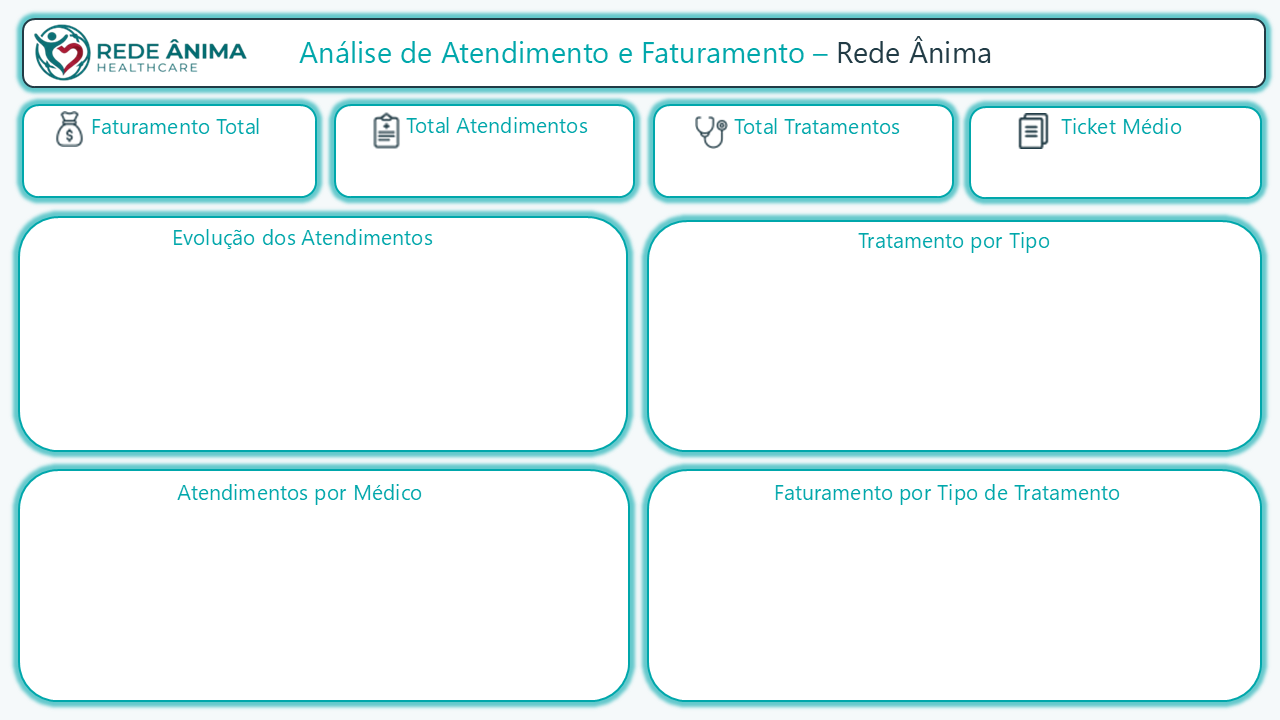

The page's visual inventory and layout, read from the dashboard file:
{"tool":"powerbi","page":{"name":"Análise de Atendimento e Faturamento","canvas":[1280,720],"ordinal":0},"visuals":[{"type":"card","fields":{"Values":["_Medidas.Faturamento Total"]},"box":[28,133.3,277.3,58.7],"z":0},{"type":"areaChart","fields":{"Category":["dCalendario.Mês Nome Curto"],"Y":["_Medidas.Qtd. Atendimentos"]},"box":[28.1,242.1,578.9,193],"z":1000},{"type":"clusteredColumnChart","fields":{"Category":["fTratamento.Tipo"],"Y":["_Medidas.Qtd. Tratamentos"]},"box":[624.2,250,630.3,184.8],"z":2000},{"type":"clusteredBarChart","fields":{"Y":["_Medidas.Faturamento Total"],"Category":["fTratamento.Tipo"]},"box":[656,489.3,568,197.3],"z":3000},{"type":"columnChart","fields":{"Category":["dMedicos.Nome Completo"],"Y":["_Medidas.Qtd. Atendimentos"]},"box":[28,489.3,590.7,197.3],"z":4000},{"type":"card","fields":{"Values":["_Medidas.Qtd. Atendimentos"]},"box":[341.3,132.5,277.9,59],"z":5000},{"type":"card","fields":{"Values":["_Medidas.Qtd. Tratamentos"]},"box":[669.3,132,280,58.7],"z":6000},{"type":"card","fields":{"Values":["_Medidas.Ticket Médio por Tratamento"]},"box":[976,133.3,278.7,58.7],"z":7000},{"type":"slicer","title":"Filtrar por Unidade","fields":{"Values":["dMedicos.Unidade"]},"box":[1005.6,37,248.1,37],"z":8000},{"type":"textbox","box":[1005.3,17.5,136.8,38.6],"z":9000}]}

Visuals, with their boxes in screenshot pixels (x1, y1, x2, y2), scaled from the page's 1280x720 canvas onto the 1280x720 screenshot:
card - _Medidas.Faturamento Total: pyautogui.locateOnScreen(28, 133, 305, 192)
areaChart - dCalendario.Mês Nome Curto x _Medidas.Qtd. Atendimentos: pyautogui.locateOnScreen(28, 242, 607, 435)
clusteredColumnChart - fTratamento.Tipo x _Medidas.Qtd. Tratamentos: pyautogui.locateOnScreen(624, 250, 1254, 435)
clusteredBarChart - _Medidas.Faturamento Total x fTratamento.Tipo: pyautogui.locateOnScreen(656, 489, 1224, 687)
columnChart - dMedicos.Nome Completo x _Medidas.Qtd. Atendimentos: pyautogui.locateOnScreen(28, 489, 619, 687)
card - _Medidas.Qtd. Atendimentos: pyautogui.locateOnScreen(341, 132, 619, 192)
card - _Medidas.Qtd. Tratamentos: pyautogui.locateOnScreen(669, 132, 949, 191)
card - _Medidas.Ticket Médio por Tratamento: pyautogui.locateOnScreen(976, 133, 1255, 192)
"Filtrar por Unidade" slicer: pyautogui.locateOnScreen(1006, 37, 1254, 74)
textbox: pyautogui.locateOnScreen(1005, 18, 1142, 56)
